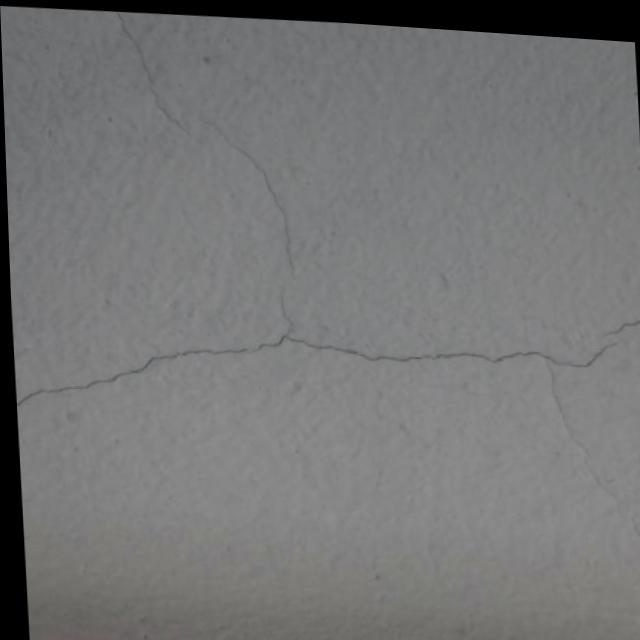Crack: (8, 266, 640, 527), (115, 26, 329, 331)
